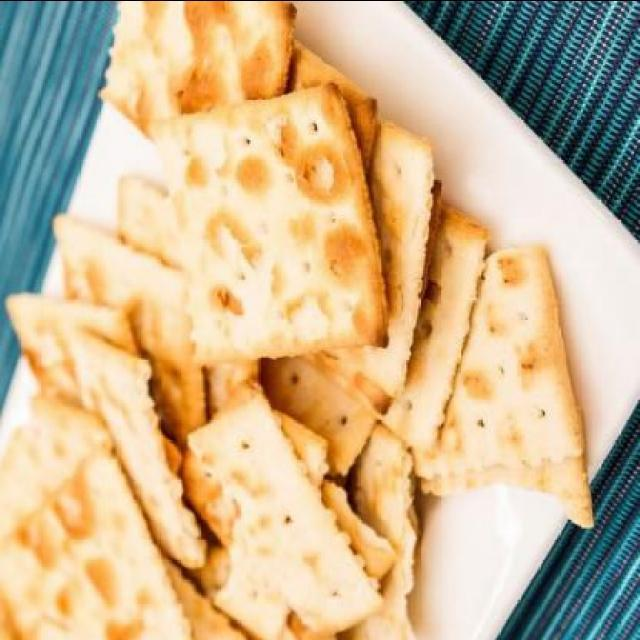Cracker packaged: (162, 68, 390, 377), (402, 231, 586, 527), (200, 380, 368, 623), (90, 1, 308, 157)
